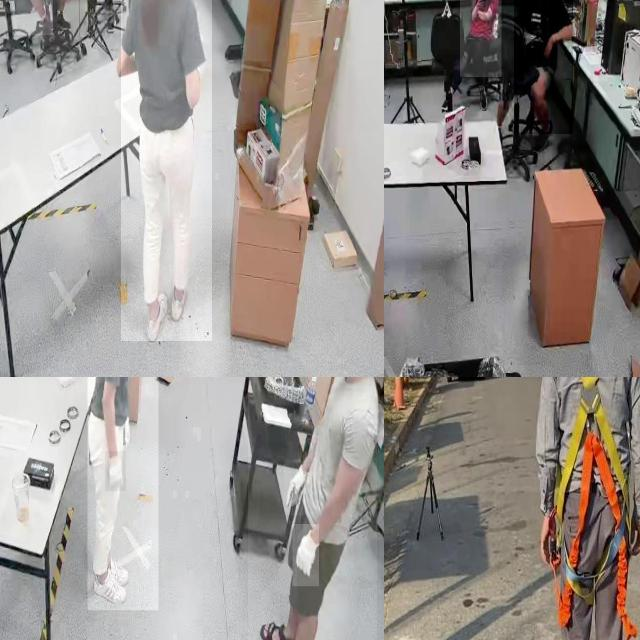Harness: (554, 377, 638, 640)
hand_glove: (292, 524, 320, 587), (284, 460, 306, 516), (105, 451, 127, 492)
hand_noglove: (542, 36, 554, 62), (476, 0, 486, 7)
person: (248, 377, 377, 640), (121, 0, 212, 341), (87, 377, 158, 611), (514, 0, 573, 134), (460, 0, 502, 78), (79, 0, 123, 46), (12, 0, 53, 36)
shoes: (91, 566, 128, 606), (145, 288, 169, 348), (166, 273, 190, 325), (100, 556, 130, 585)
